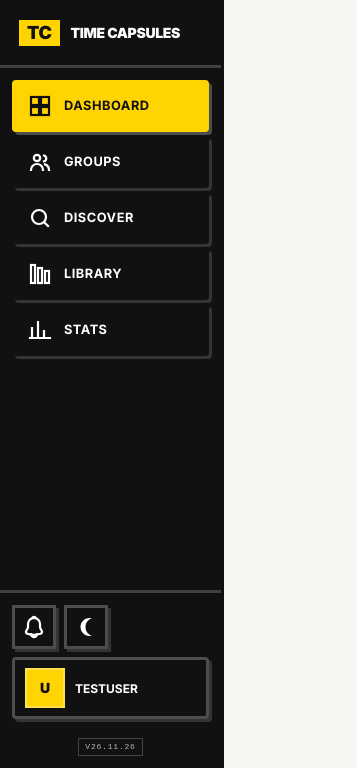
Scenario: Layout › opens notification panel on bell click
Click the button named "Notifications".
click(34, 627)  # box [12,605,56,649]
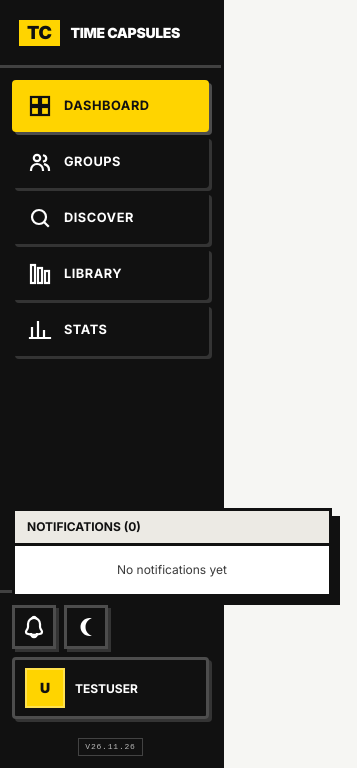
Check: the text "No notifications yet" is shown, box [117,562,227,577]
